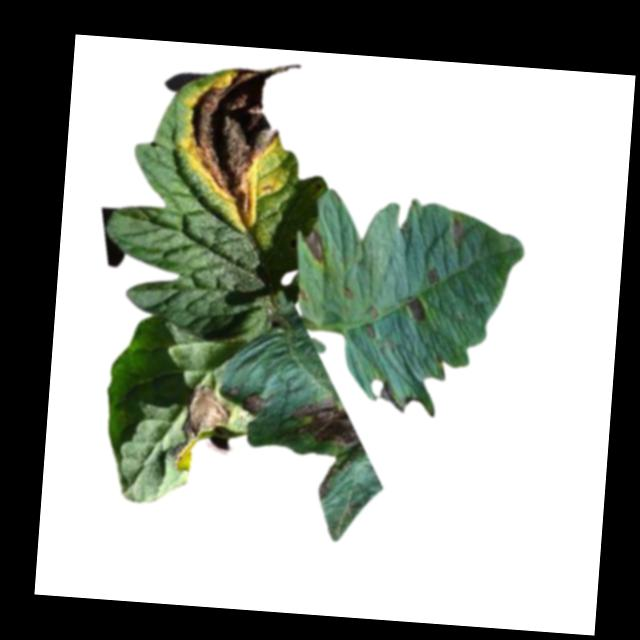Early_blight: (184, 53, 305, 232), (287, 388, 369, 504), (173, 379, 234, 479), (298, 226, 329, 265), (242, 389, 271, 418), (405, 294, 430, 321), (449, 216, 467, 250), (424, 265, 445, 286), (361, 320, 376, 335)
